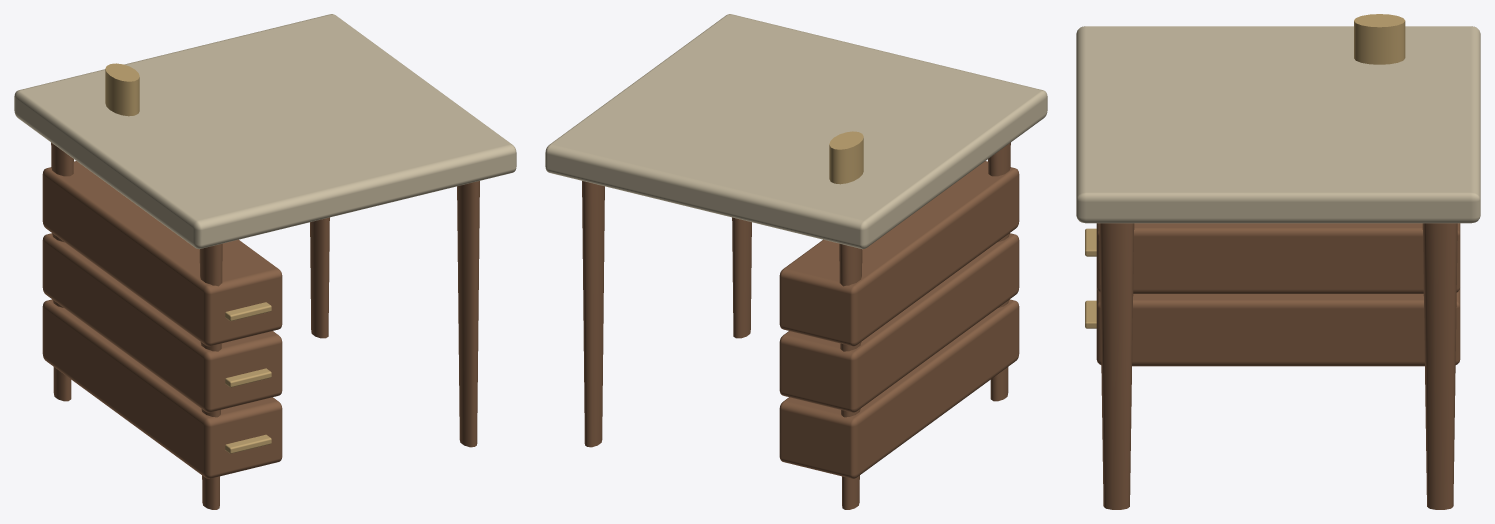
Rendered from desk-20-3.glb.
The picture shows the model from 3 angles, left to right: view 1: azimuth 30°, elevation 25°; view 2: azimuth 150°, elevation 25°; view 3: azimuth 270°, elevation 25°; orthographic projection. The views are drawn at different scales.
Visible parts, largest first — view 1: upholstery (×2), part; view 2: upholstery (×2), part; view 3: upholstery (×2), part.
Boxes of the visible parts, x1,y1,x2,y2 form: upholstery (×2): [14, 14, 516, 453]; part: [42, 142, 479, 509]; upholstery (×2): [545, 14, 1047, 249]; part: [582, 142, 1019, 509]; upholstery (×2): [1076, 14, 1480, 328]; part: [1096, 223, 1460, 509].
Size of the model in its own units: 1 by 1 by 1.
